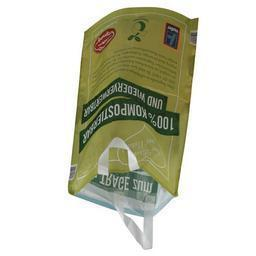plastic: (69, 8, 199, 250)
